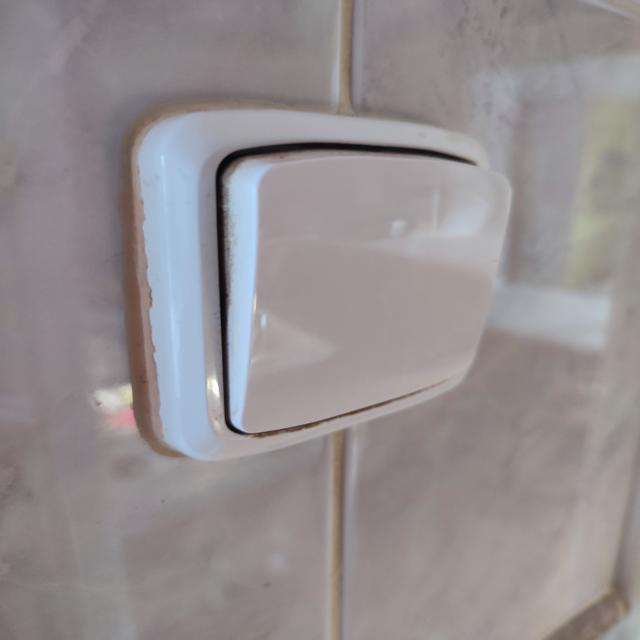house switch: (134, 110, 511, 462)
